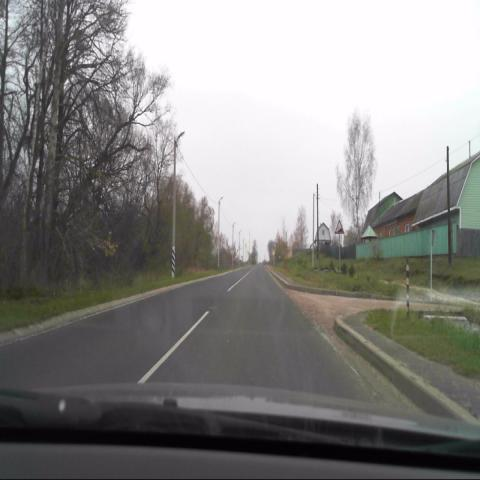1_14: (334, 220, 344, 237)
